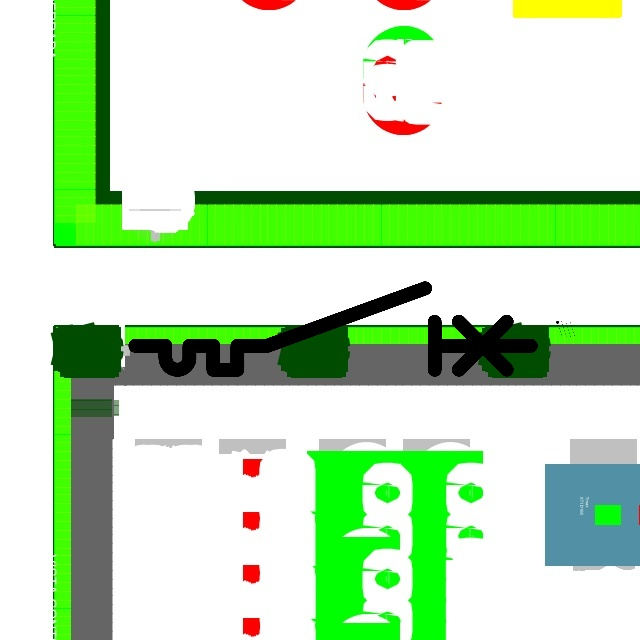interruptor_termomagnetico: (125, 278, 541, 380)
